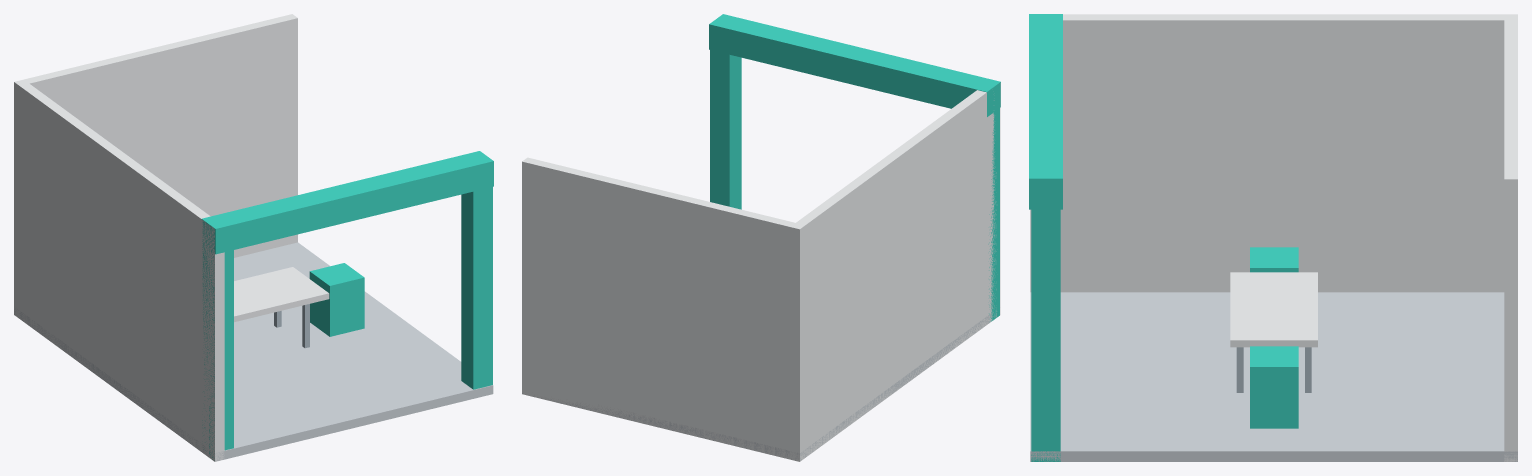
3 views of the same model, side by side, from view 1: azimuth 30°, elevation 25°; view 2: azimuth 150°, elevation 25°; view 3: azimuth 270°, elevation 25° (orthographic). The views are drawn at different scales.
Parts seen in each view (by area): view 1: Exhibition Booth Concept; view 2: Exhibition Booth Concept; view 3: Exhibition Booth Concept.
Part boxes in pixels (left/top/right/bottom): Exhibition Booth Concept: left=14, top=14, right=493, bottom=461; Exhibition Booth Concept: left=522, top=14, right=1000, bottom=461; Exhibition Booth Concept: left=1029, top=14, right=1517, bottom=461.
Bounding box in the file's own units: 4 × 3.2 × 5.02.
